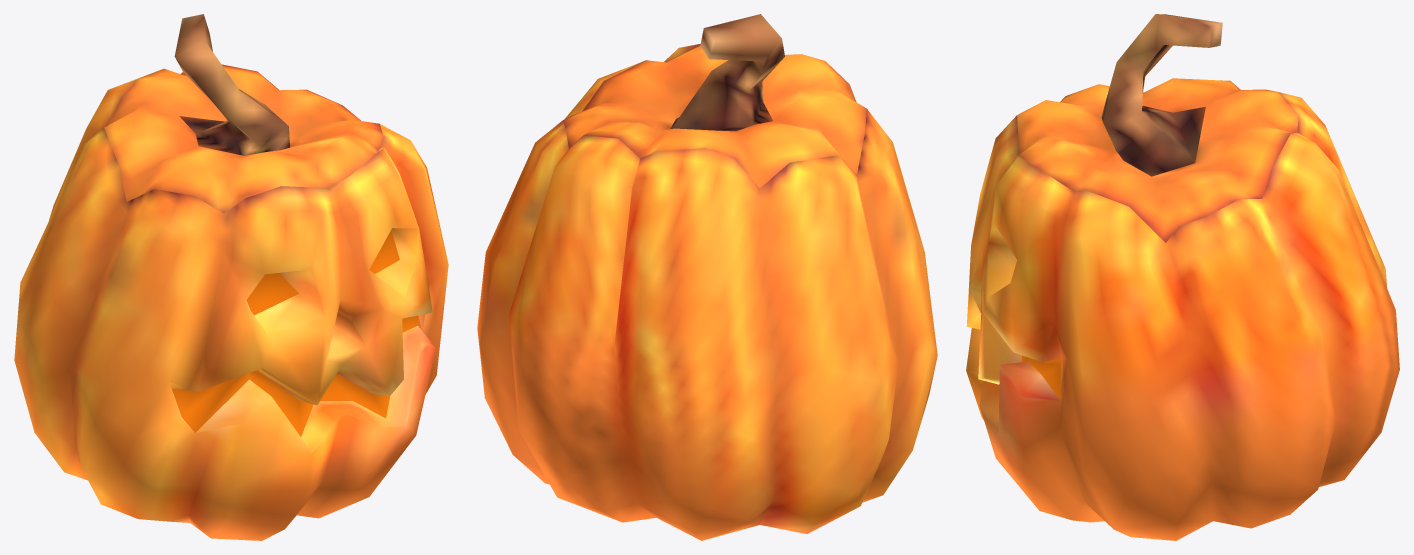
3 renders of one model, left to right at view 1: azimuth 30°, elevation 25°; view 2: azimuth 150°, elevation 25°; view 3: azimuth 270°, elevation 25°, orthographic. The views are drawn at different scales.
Visible parts, largest first — view 1: CarvedPumpkin01; view 2: CarvedPumpkin01; view 3: CarvedPumpkin01.
Part boxes in pixels (x1,y1,x2,y2): CarvedPumpkin01: [14, 14, 448, 540]; CarvedPumpkin01: [477, 14, 937, 540]; CarvedPumpkin01: [966, 14, 1399, 540].
Size of what is drawn, in the model's own units: 0.6013 by 0.7204 by 0.6081.
Materials: 2 (2 with a texture image).
